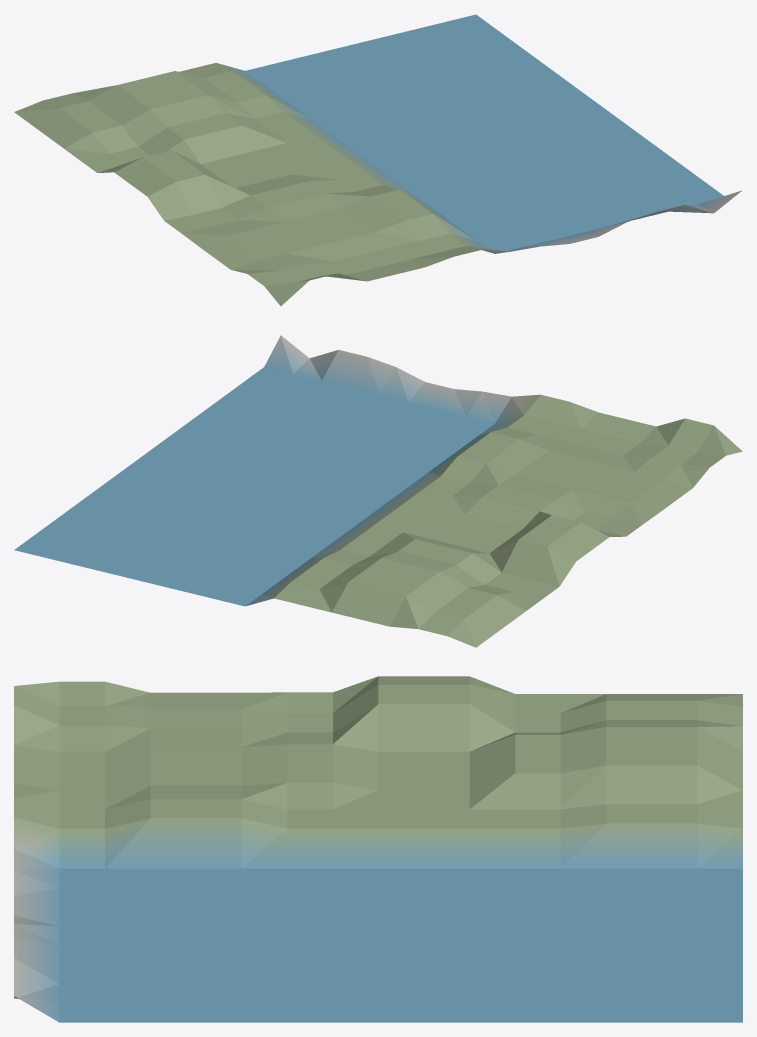
3 views of the same model, one above another, from view 1: azimuth 30°, elevation 25°; view 2: azimuth 150°, elevation 25°; view 3: azimuth 270°, elevation 25° (orthographic). The views are drawn at different scales.
Size of the model in its own units: 32 by 2.38 by 32.
